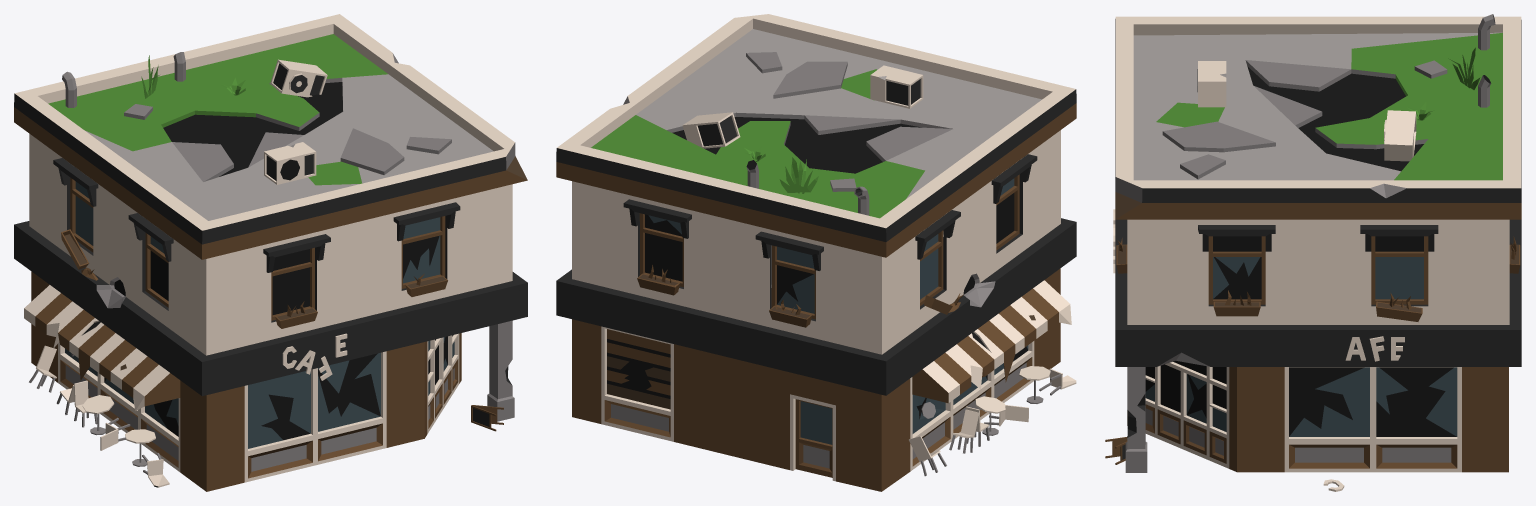
Rendered from apocalypse_building-cafe-apocalypse.fbx.
3 views of the same model, side by side, from view 1: azimuth 30°, elevation 25°; view 2: azimuth 150°, elevation 25°; view 3: azimuth 270°, elevation 25° (orthographic). The views are drawn at different scales.
Parts seen in each view (by area): view 1: apocalypse_building_cafe_apocalypse; view 2: apocalypse_building_cafe_apocalypse; view 3: apocalypse_building_cafe_apocalypse.
Part boxes in pixels (box(x1,y1,x2,y2)): apocalypse_building_cafe_apocalypse: box(14, 14, 527, 491); apocalypse_building_cafe_apocalypse: box(556, 14, 1076, 491); apocalypse_building_cafe_apocalypse: box(1105, 14, 1521, 491).
Size of the model in its own units: 200 by 147 by 174.
